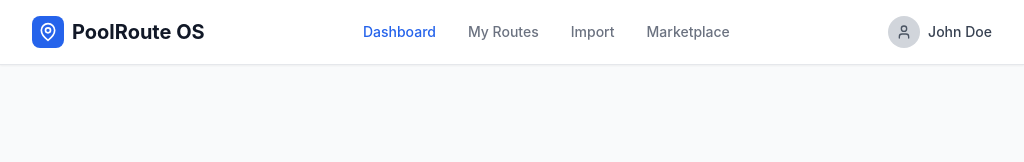
it: Header › Authenticated State › should toggle profile menu on user button click
The width and height of the screenshot is (1024, 162).
Check: the link "profile" is not shown
Click the button: (940, 32) [888,16,992,48]
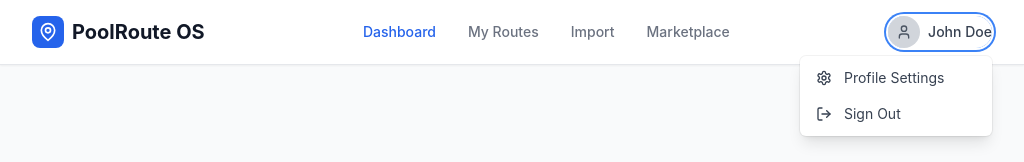
Check: the link "Profile Settings" is shown, box [816,69,944,86]
Check: the button "Sign Out" is shown, box [800,96,992,132]
Click again to close
Click the button "John Doe": (940, 32) [888,16,992,48]
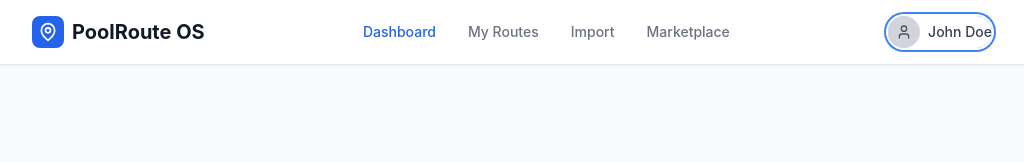
Check: the link "Profile" is gone
